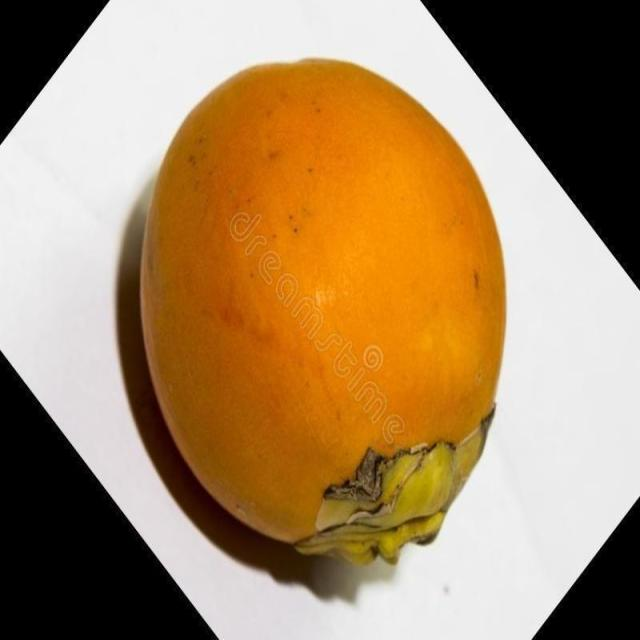good: (137, 59, 508, 569)
